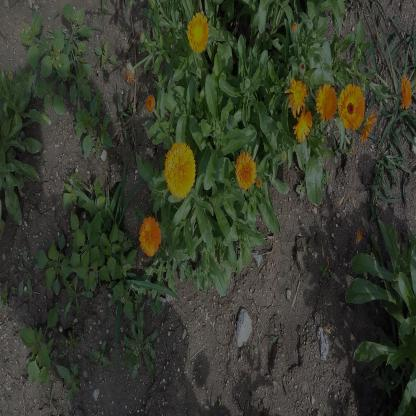marigold: (164, 142, 197, 200), (338, 82, 366, 131), (284, 74, 308, 117), (138, 215, 162, 257), (187, 12, 209, 53), (316, 83, 338, 121), (235, 151, 256, 190), (293, 108, 314, 141), (359, 109, 376, 143), (400, 74, 413, 109)
